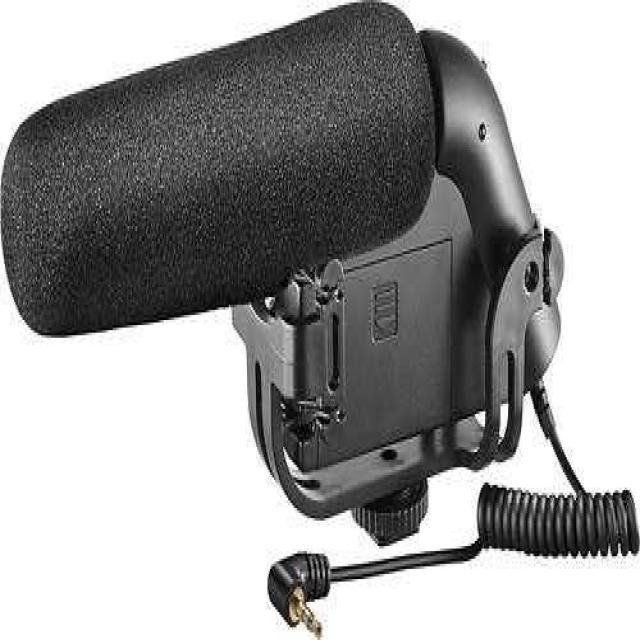microphone: (2, 8, 474, 357)
